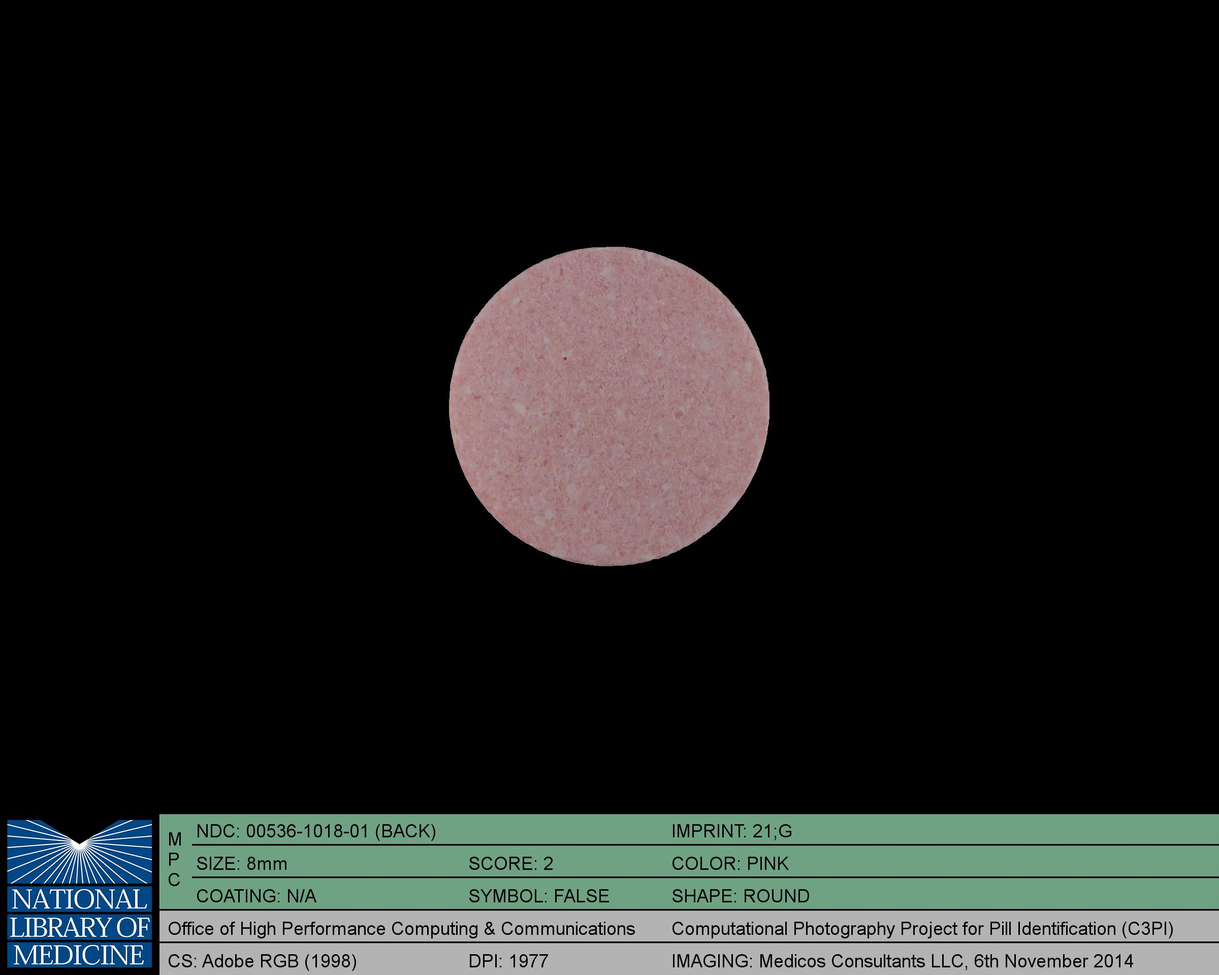Pill: (442, 235, 777, 576)
